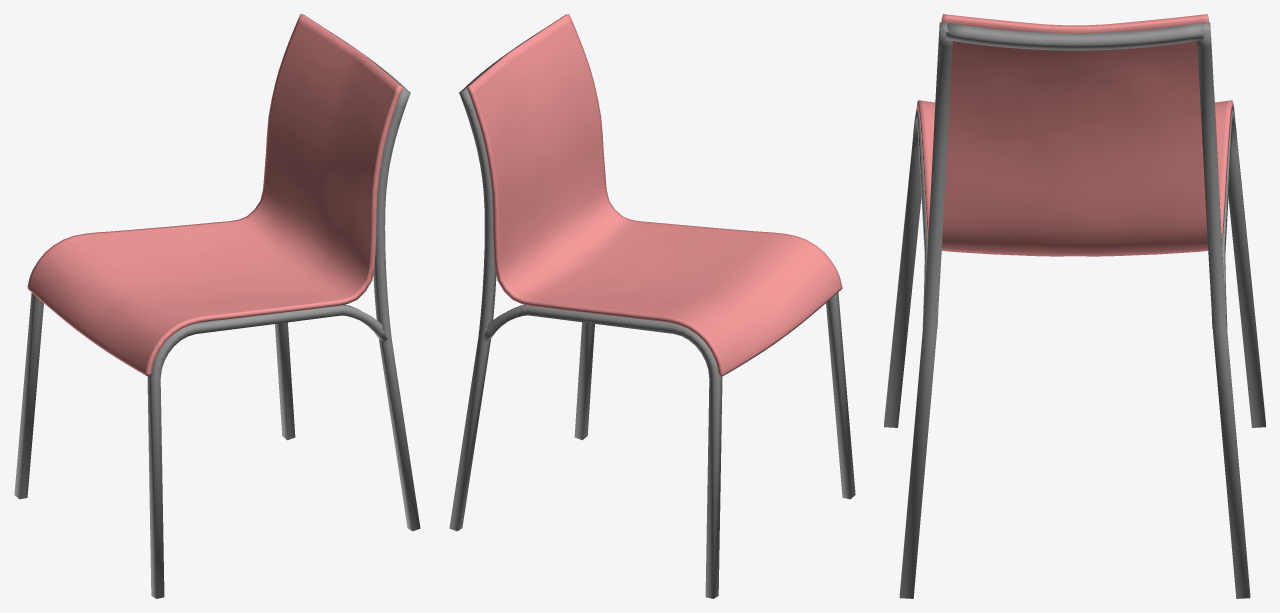
Rendered from chair3.fbx.
The picture shows the model from 3 angles, left to right: view 1: azimuth 30°, elevation 25°; view 2: azimuth 150°, elevation 25°; view 3: azimuth 270°, elevation 25°; orthographic projection. The views are drawn at different scales.
Parts seen in each view (by area): view 1: chair3; view 2: chair3; view 3: chair3.
Boxes of the visible parts, x1,y1,x2,y2 form: chair3: [14, 14, 420, 598]; chair3: [449, 14, 855, 598]; chair3: [884, 14, 1265, 598].
Size of the model in its own units: 105 by 154 by 91.55.
